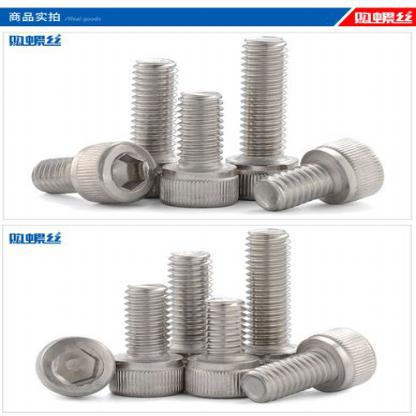FOD: (225, 36, 300, 203), (241, 325, 381, 404), (158, 90, 245, 209), (252, 139, 389, 212), (107, 282, 186, 399), (187, 299, 262, 400), (32, 142, 157, 202)
